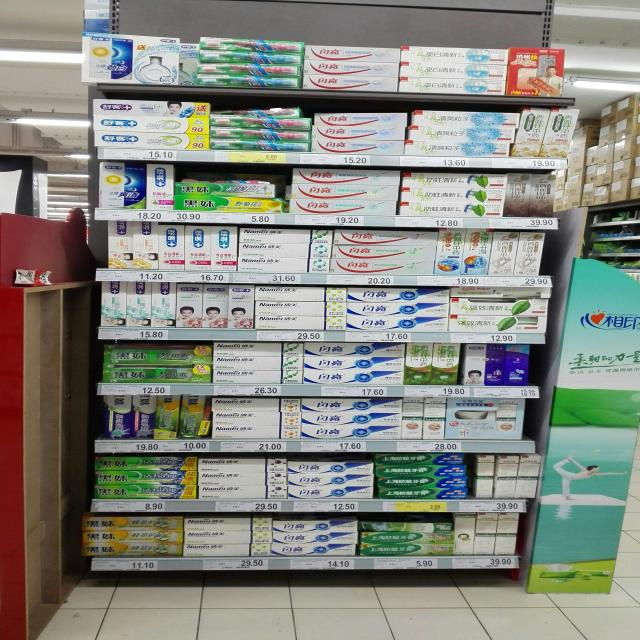unorganised: (312, 103, 574, 159), (285, 168, 505, 215), (374, 452, 477, 500), (102, 396, 207, 440), (175, 173, 277, 197), (101, 160, 147, 208), (507, 171, 552, 217), (167, 39, 205, 87), (103, 221, 134, 269), (212, 103, 307, 118)
